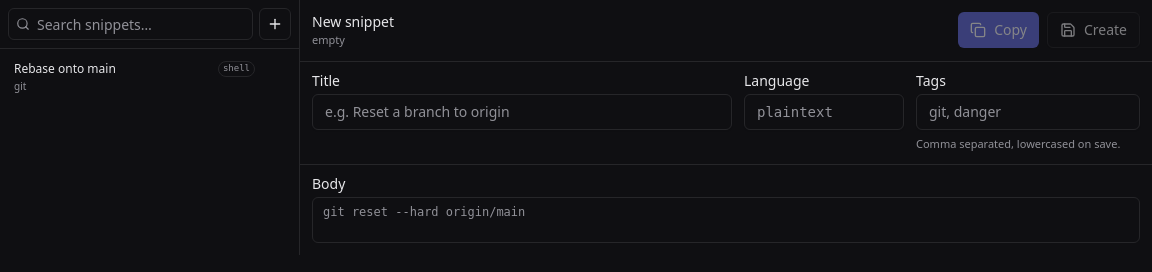
SnippetsPage saving › keeps Save inert until there is something to save
Expected: the button "Create" is disabled, [1047,12,1140,48]
Loading a snippet is not an edit of it.
Click the text "Rebase onto main": (65, 68) [14,60,116,77]
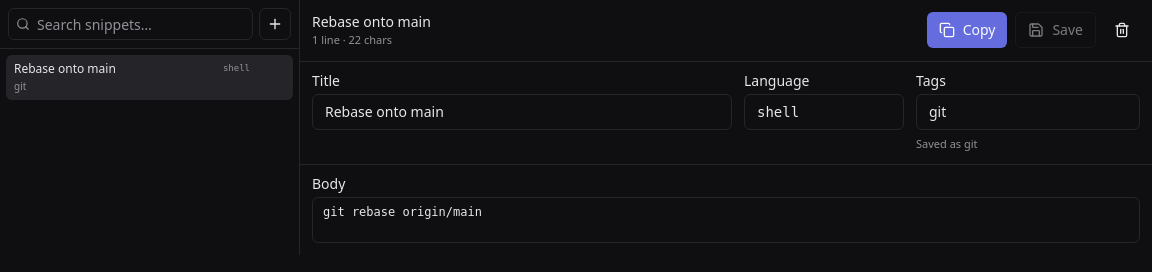
Expected: the button "Save" is disabled, [1015,12,1096,48]
Nor is retyping a value that normalizes back to what is stored.
Replace the text in the field labelled "Language" with "SHELL": (824, 112) [744,94,904,130]
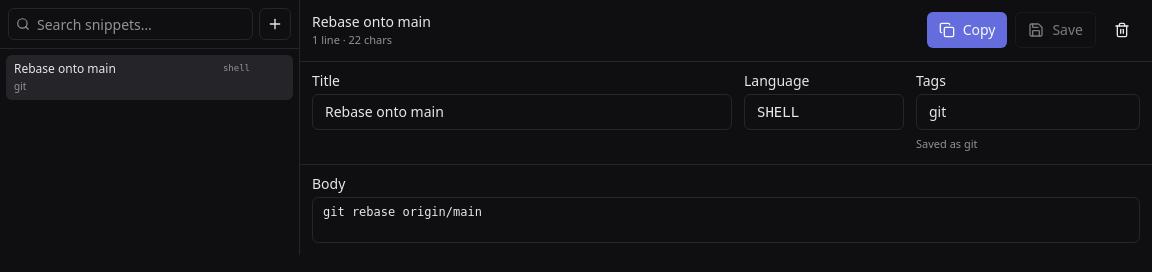
Expected: the button "Save" is disabled, [1015,12,1096,48]
Replace the text in the field labelled "Language" with "powershell": (824, 112) [744,94,904,130]
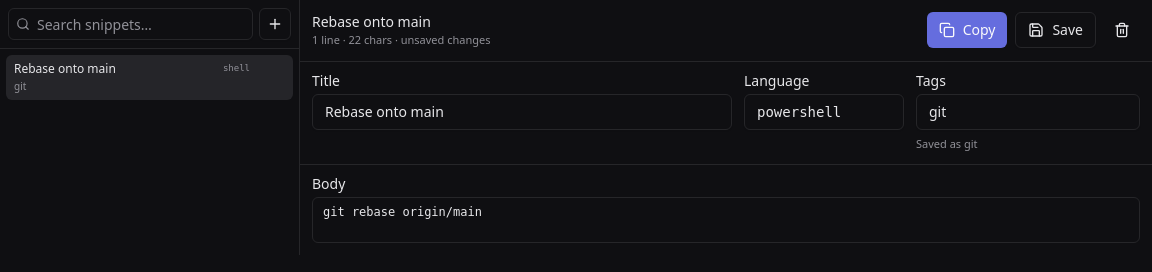
Expected: the button "Save" is enabled, [1015,12,1096,48]
